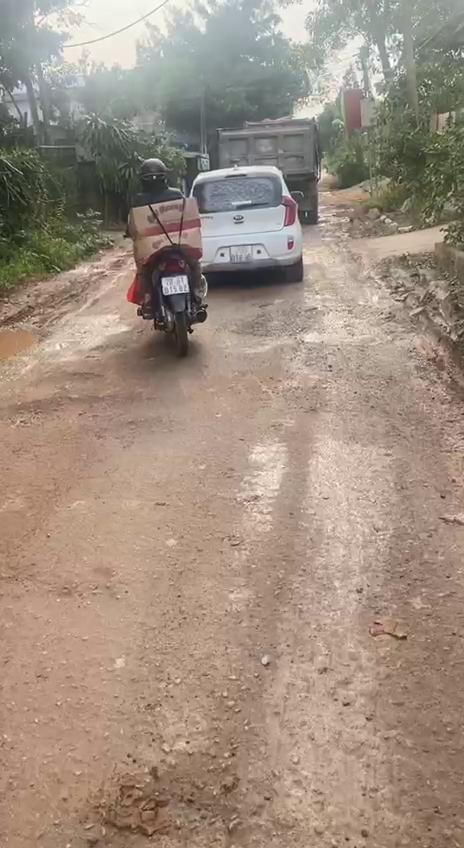pothole: (236, 305, 402, 348), (0, 319, 56, 374)
